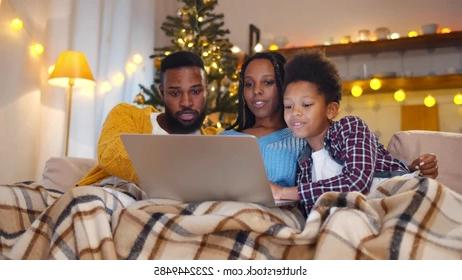blanket: (0, 175, 462, 260)
long sleeve shirt: (294, 115, 410, 223)
sweater: (69, 103, 227, 189), (216, 127, 308, 188)
